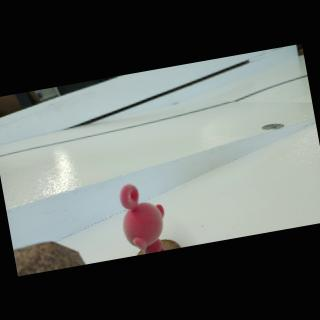teletubby: (120, 184, 164, 254)
